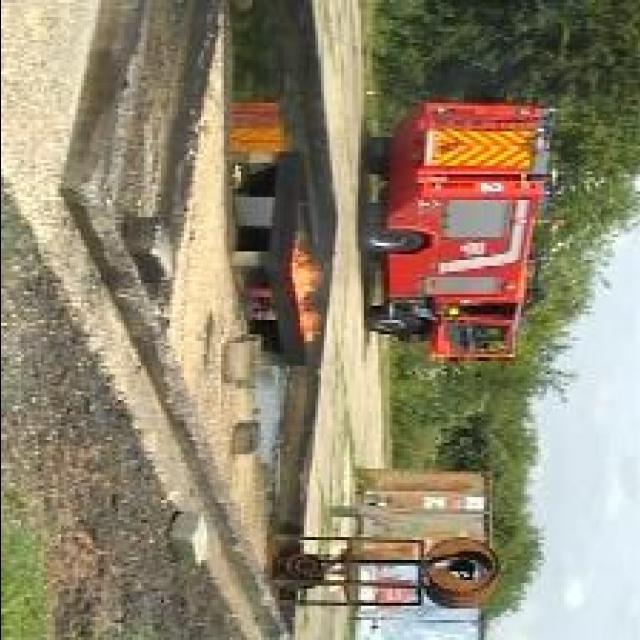Fire: (284, 228, 322, 342)
